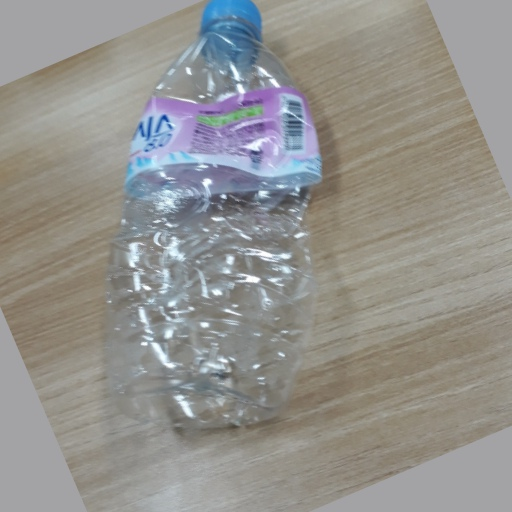Plastic_0: (108, 1, 324, 434)
